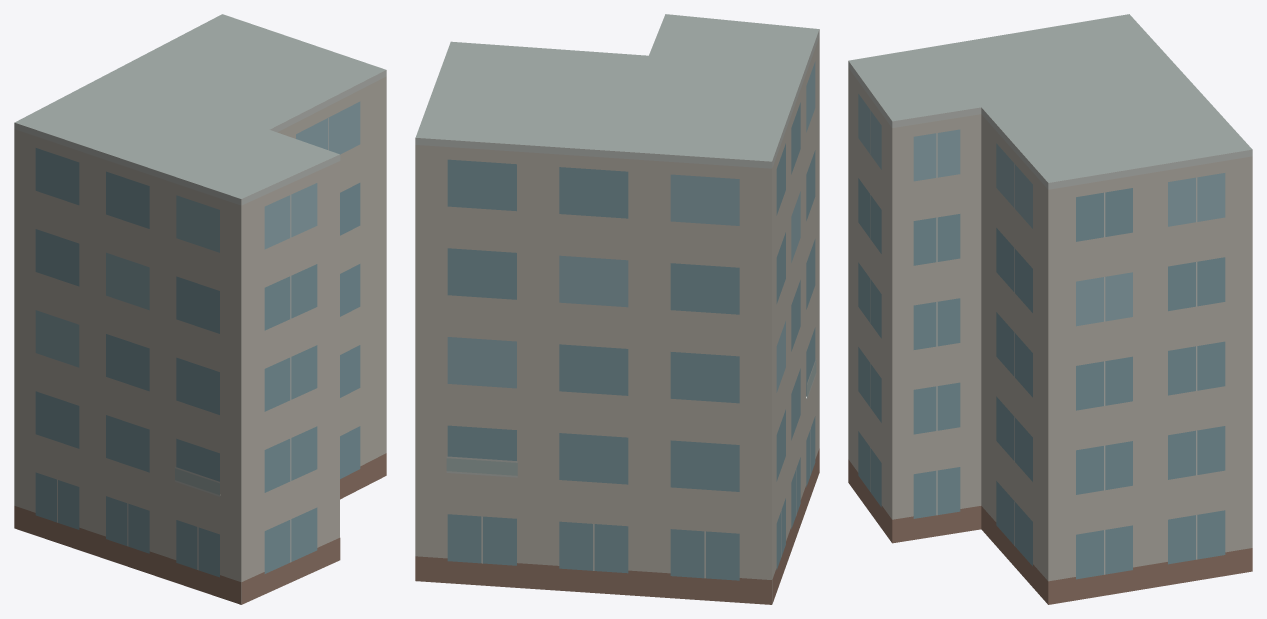
The model's file is survey-upis-32995156.glb.
3 views of the same model, side by side, from view 1: azimuth 30°, elevation 25°; view 2: azimuth 150°, elevation 25°; view 3: azimuth 270°, elevation 25° (orthographic). The views are drawn at different scales.
Parts seen in each view (by area): view 1: survey-upis-32995156.tmp; view 2: survey-upis-32995156.tmp; view 3: survey-upis-32995156.tmp.
Boxes of the visible parts, x1,y1,x2,y2 form: survey-upis-32995156.tmp: (14, 14, 386, 604); survey-upis-32995156.tmp: (415, 14, 819, 604); survey-upis-32995156.tmp: (848, 14, 1252, 604).
Size of the model in its own units: 13.11 by 15.25 by 13.26.
